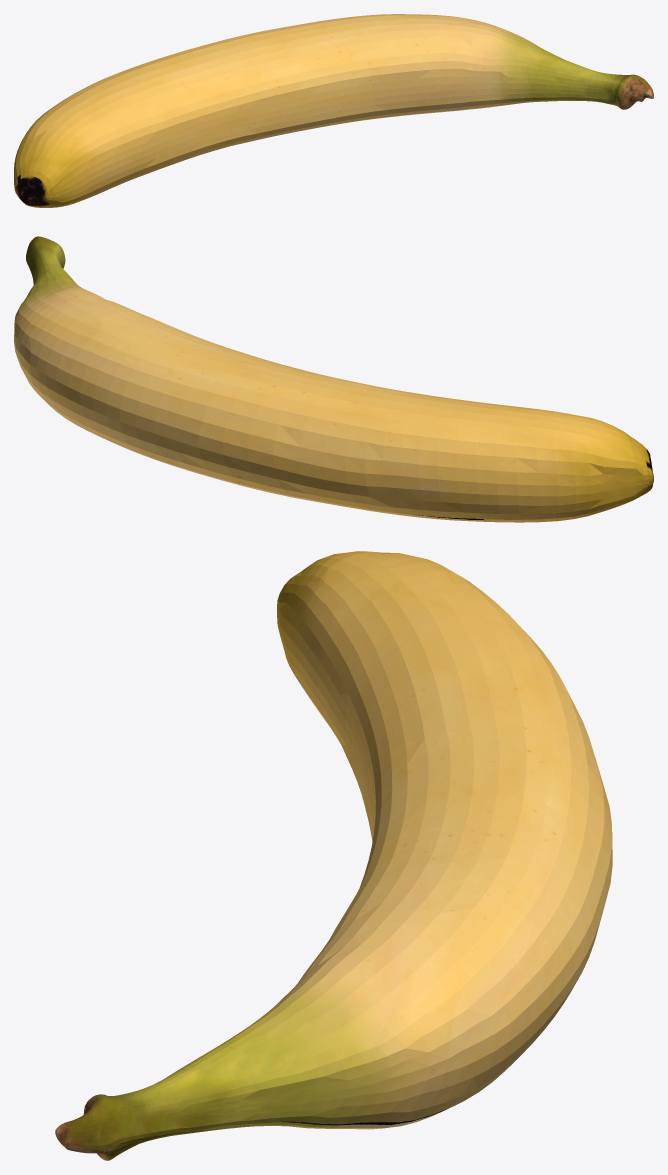
Rendered from Banana.obj.
3 views of the same model, one above another, from view 1: azimuth 30°, elevation 25°; view 2: azimuth 150°, elevation 25°; view 3: azimuth 270°, elevation 25° (orthographic). The views are drawn at different scales.
Parts seen in each view (by area): view 1: banan; view 2: banan; view 3: banan.
Part boxes in pixels (left/top/right/bottom): banan: left=14, top=14, right=653, bottom=207; banan: left=14, top=236, right=653, bottom=522; banan: left=55, top=551, right=612, bottom=1160.
Size of the model in its own units: 28.5 by 4.12 by 12.
